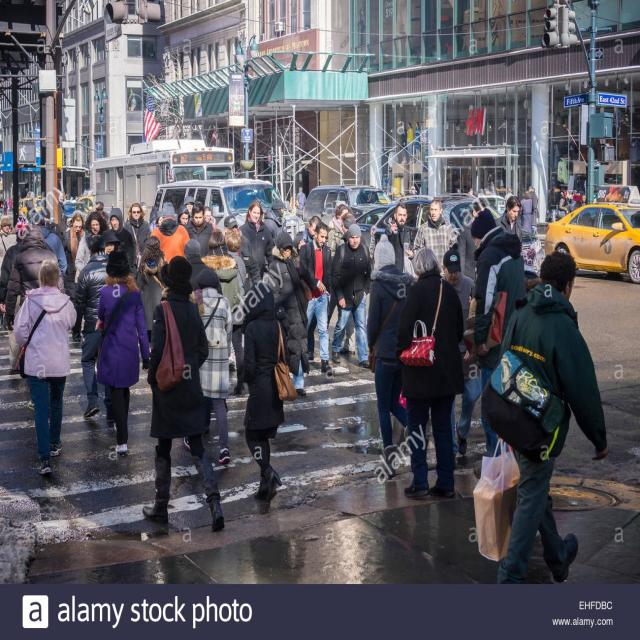body: (479, 248, 611, 588), (141, 252, 226, 538), (390, 245, 467, 501), (469, 207, 527, 480), (12, 257, 77, 475), (366, 234, 418, 478), (93, 249, 151, 457), (180, 265, 234, 467), (237, 278, 284, 501), (442, 248, 483, 468), (74, 234, 117, 424), (264, 231, 312, 399), (329, 221, 374, 371), (4, 224, 66, 332), (297, 221, 336, 376), (0, 217, 31, 376), (292, 214, 324, 363), (223, 226, 248, 397), (339, 212, 368, 357), (411, 197, 459, 283), (236, 199, 276, 289), (202, 228, 242, 315), (61, 210, 87, 334), (326, 202, 350, 334), (223, 215, 261, 295), (26, 212, 70, 281), (148, 201, 192, 266), (27, 209, 69, 277), (100, 206, 138, 279), (74, 210, 109, 288), (382, 202, 416, 276), (457, 202, 487, 282), (122, 202, 152, 273), (126, 202, 152, 270), (184, 201, 214, 259), (494, 195, 524, 243), (262, 196, 288, 247), (396, 120, 424, 164), (520, 247, 542, 296), (0, 214, 18, 270), (454, 186, 516, 198), (519, 189, 534, 235), (98, 226, 120, 257), (527, 185, 540, 234), (568, 188, 587, 215), (295, 185, 308, 222), (182, 194, 197, 223), (92, 200, 111, 222), (202, 206, 216, 230), (176, 205, 191, 227), (558, 189, 570, 215), (0, 195, 13, 216), (289, 190, 299, 217), (405, 185, 421, 197), (155, 210, 164, 228)
